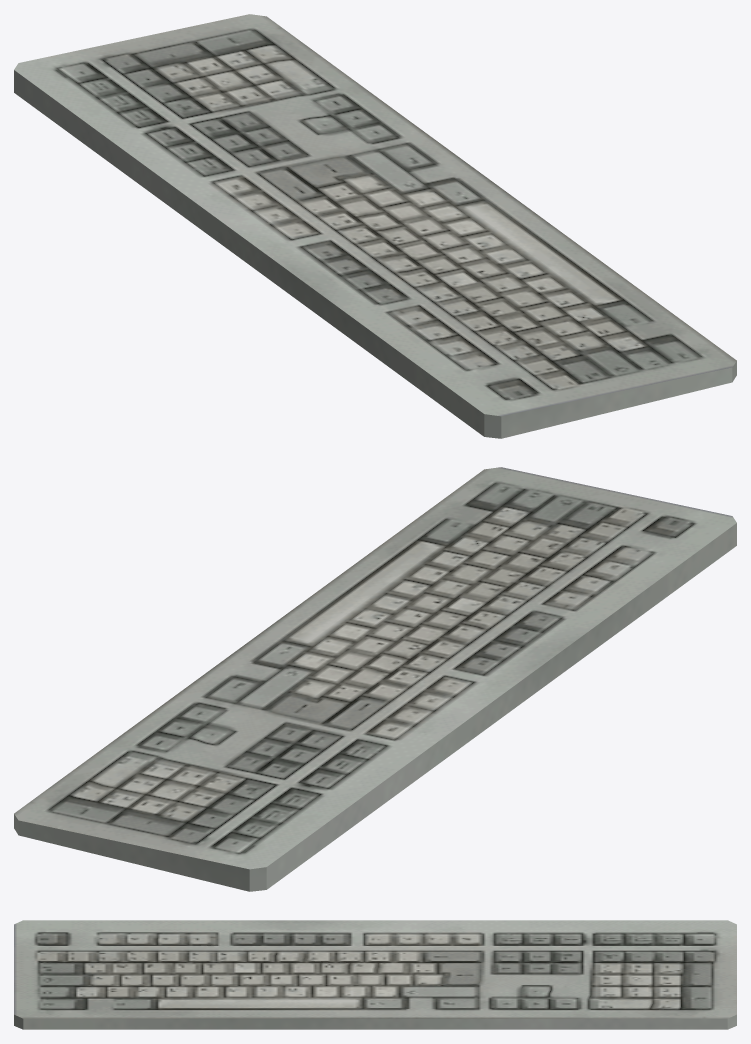
File: Keyboard.fbx
3 renders of one model, top to bottom at view 1: azimuth 30°, elevation 25°; view 2: azimuth 150°, elevation 25°; view 3: azimuth 270°, elevation 25°, orthographic. The views are drawn at different scales.
Parts seen in each view (by area): view 1: Keyboard; view 2: Keyboard; view 3: Keyboard.
Boxes of the visible parts, bbox=[...] form: Keyboard: bbox=[14, 14, 736, 438]; Keyboard: bbox=[14, 467, 736, 891]; Keyboard: bbox=[14, 920, 736, 1029].
Size of the model in its own units: 13 by 1.12 by 43.
